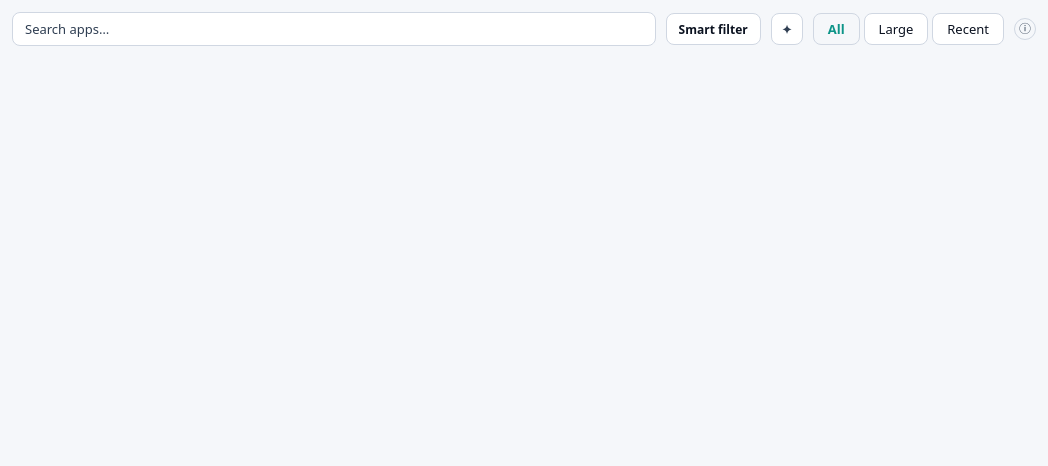
states the backup prerequisite in the actual guide in en
Click the button named "How to deep uninstall" at {"x": 1025, "y": 29}, box [1014, 18, 1036, 40]
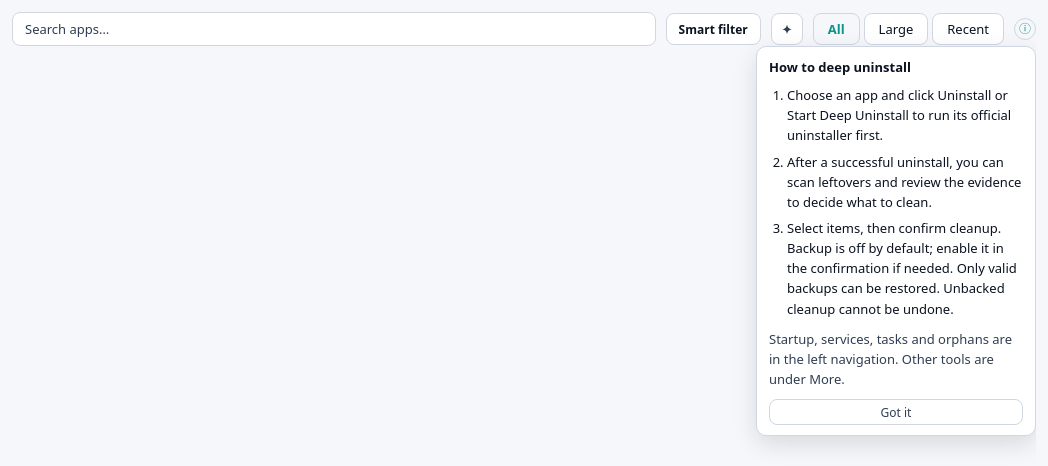
Result: the element named "How to deep uninstall" shows "Unbacked cleanup cannot be undone" at [787, 219, 1017, 318]
